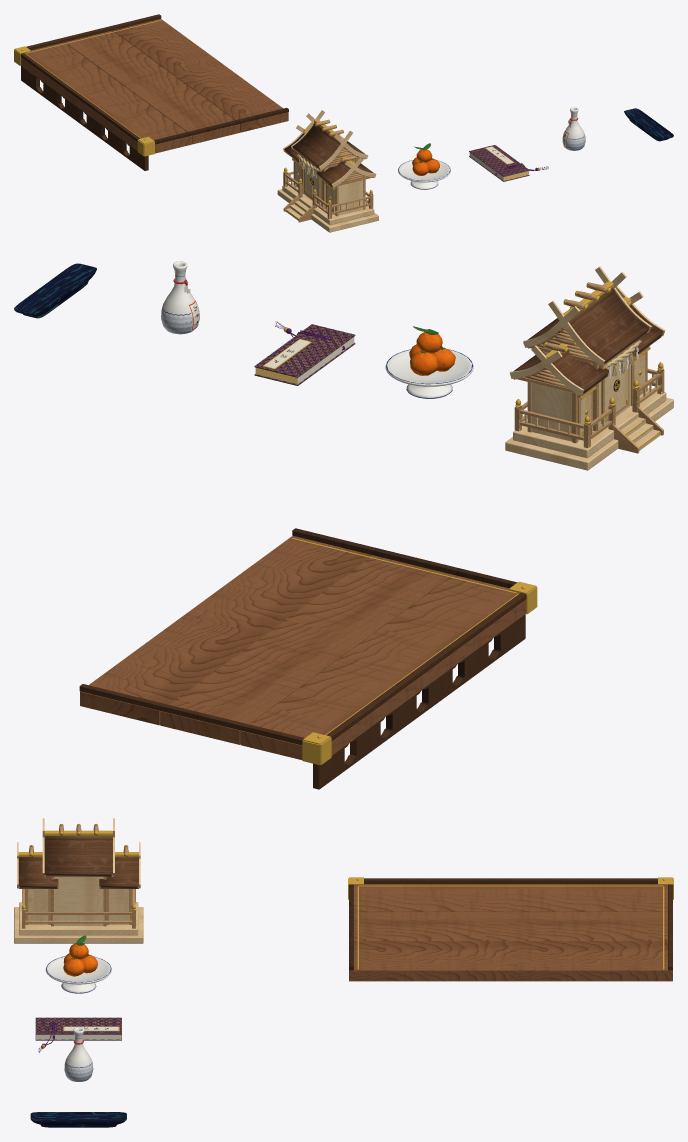
File: kamidana.glb
3 views of the same model, one above another, from view 1: azimuth 30°, elevation 25°; view 2: azimuth 150°, elevation 25°; view 3: azimuth 270°, elevation 25° (orthographic). The views are drawn at different scales.
Visible parts, largest first — view 1: KamiJ66Part, KamiJ67Part, KamiJ68Part, KamiJ65Part, KamiJ17Part, KamiJ13Part, KamiJ10Part, KamiJ12Line, KamiJ6Part, KamiJ11Part, KamiJ59Part, KamiJ69Line (+4 smaller); view 2: KamiJ66Part, KamiJ68Part, KamiJ67Part, KamiJ65Part, KamiJ17Part, KamiJ10Part, KamiJ11Part, KamiJ13Part, KamiJ6Part, KamiJ12Line, KamiJ59Part, KamiJ43Part (+4 smaller); view 3: KamiJ68Part, KamiJ67Part, KamiJ66Part, KamiJ17Part, KamiJ6Part, KamiJ65Part, KamiJ11Part, KamiJ13Part, KamiJ59Part, KamiJ1Part, KamiJ43Part, KamiJ69Line (+5 smaller).
Boxes of the visible parts, x1,y1,x2,y2 form: KamiJ66Part: [20, 42, 192, 153]; KamiJ67Part: [64, 30, 240, 144]; KamiJ68Part: [113, 18, 288, 132]; KamiJ65Part: [20, 14, 288, 170]; KamiJ17Part: [284, 123, 373, 186]; KamiJ13Part: [277, 110, 378, 232]; KamiJ10Part: [283, 146, 373, 222]; KamiJ12Line: [284, 120, 372, 216]; KamiJ6Part: [282, 161, 374, 225]; KamiJ11Part: [283, 122, 376, 211]; KamiJ59Part: [469, 145, 529, 181]; KamiJ69Line: [14, 20, 161, 156]; KamiJ66Part: [240, 575, 526, 759]; KamiJ68Part: [80, 536, 372, 725]; KamiJ67Part: [160, 555, 452, 744]; KamiJ65Part: [79, 528, 526, 789]; KamiJ17Part: [513, 288, 663, 394]; KamiJ10Part: [514, 327, 664, 453]; KamiJ11Part: [510, 266, 665, 439]; KamiJ13Part: [505, 300, 673, 470]; KamiJ6Part: [513, 381, 666, 457]; KamiJ12Line: [515, 282, 662, 443]; KamiJ59Part: [254, 324, 355, 385]; KamiJ43Part: [385, 349, 473, 398]; KamiJ68Part: [349, 941, 672, 981]; KamiJ67Part: [354, 912, 667, 941]; KamiJ66Part: [354, 884, 667, 911]; KamiJ17Part: [18, 836, 138, 888]; KamiJ6Part: [19, 889, 138, 935]; KamiJ65Part: [349, 878, 672, 970]; KamiJ11Part: [17, 818, 140, 925]; KamiJ13Part: [14, 818, 143, 943]; KamiJ59Part: [35, 1017, 121, 1040]; KamiJ1Part: [30, 1112, 126, 1127]; KamiJ43Part: [45, 957, 111, 993]; KamiJ69Line: [348, 877, 673, 969].
Size of the model in its own units: 1.62 by 0.4304 by 1.83.
38 materials, 18 textured.
